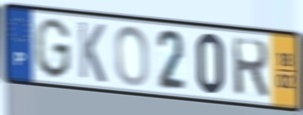0: (195, 31, 226, 97)
2: (155, 28, 187, 94)
G: (33, 16, 73, 81)
K: (77, 19, 108, 86)
O: (114, 23, 151, 88)
R: (230, 36, 271, 101)
